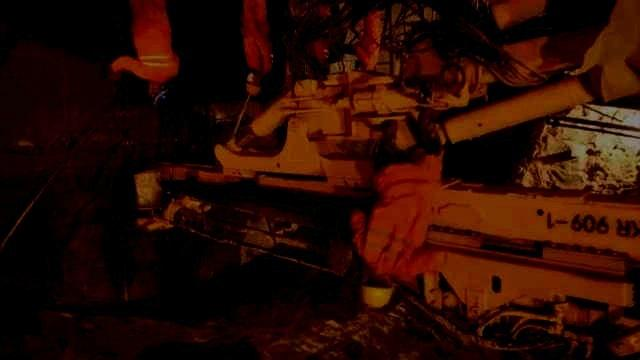helmet: (359, 265, 395, 306), (148, 81, 169, 105)
